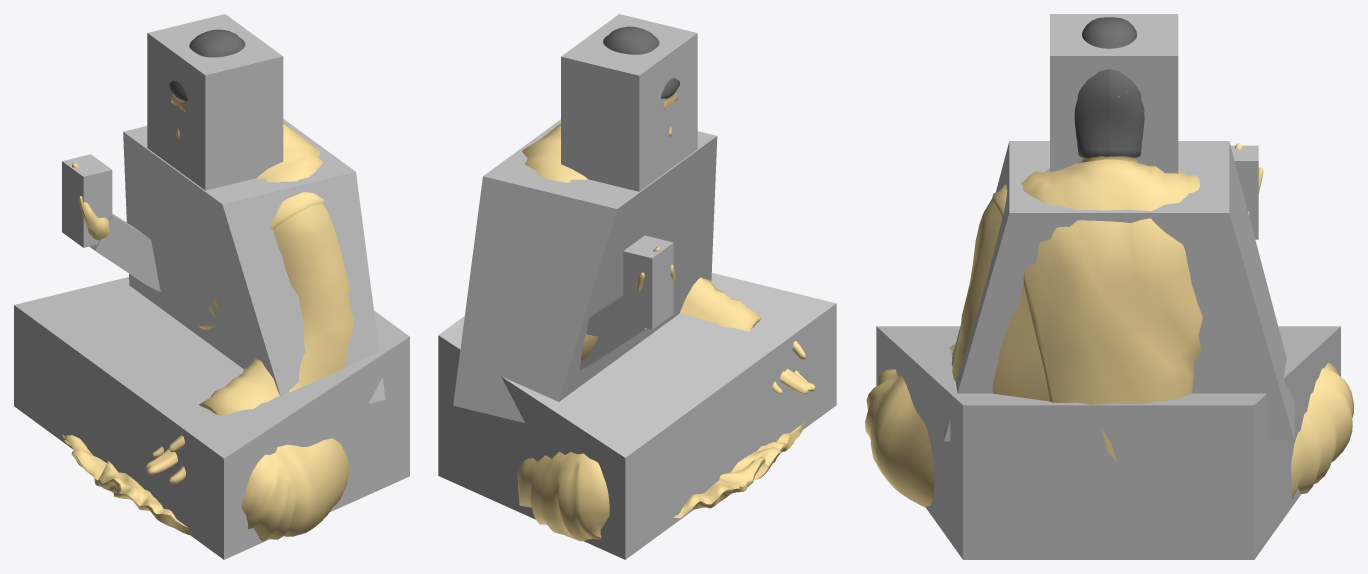
The model's file is SM_Golden_Buddha_01.fbx.
3 views of the same model, side by side, from view 1: azimuth 30°, elevation 25°; view 2: azimuth 150°, elevation 25°; view 3: azimuth 270°, elevation 25° (orthographic). The views are drawn at different scales.
Parts seen in each view (by area): view 1: SM_Golden_Buddha_01_ConvexHulls, SM_Golden_Buddha_01; view 2: SM_Golden_Buddha_01_ConvexHulls, SM_Golden_Buddha_01; view 3: SM_Golden_Buddha_01_ConvexHulls, SM_Golden_Buddha_01.
Part boxes in pixels (x1=…): SM_Golden_Buddha_01_ConvexHulls: x1=14, y1=14, x2=409, y2=559; SM_Golden_Buddha_01: x1=62, y1=29, x2=353, y2=541; SM_Golden_Buddha_01_ConvexHulls: x1=438, y1=14, x2=836, y2=559; SM_Golden_Buddha_01: x1=517, y1=26, x2=815, y2=541; SM_Golden_Buddha_01_ConvexHulls: x1=876, y1=14, x2=1340, y2=559; SM_Golden_Buddha_01: x1=865, y1=17, x2=1353, y2=507.
Bounding box in the file's own units: 206 × 312 × 332.
2 materials, 1 textured.
